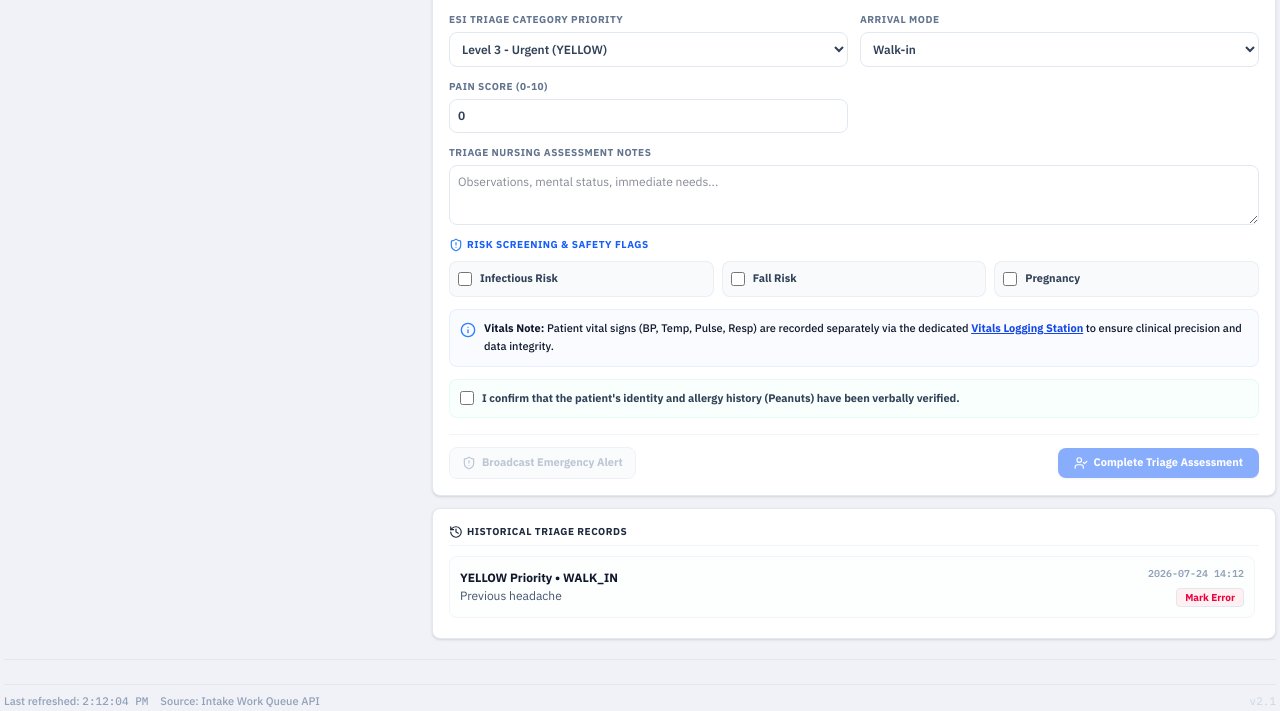
Test: NurseTriageQueuePage › renders network error safely when correction fails
(page scrolled)
Click the button "Mark Error". click: [1210, 598]
box: left=1176, top=588, right=1244, bottom=607
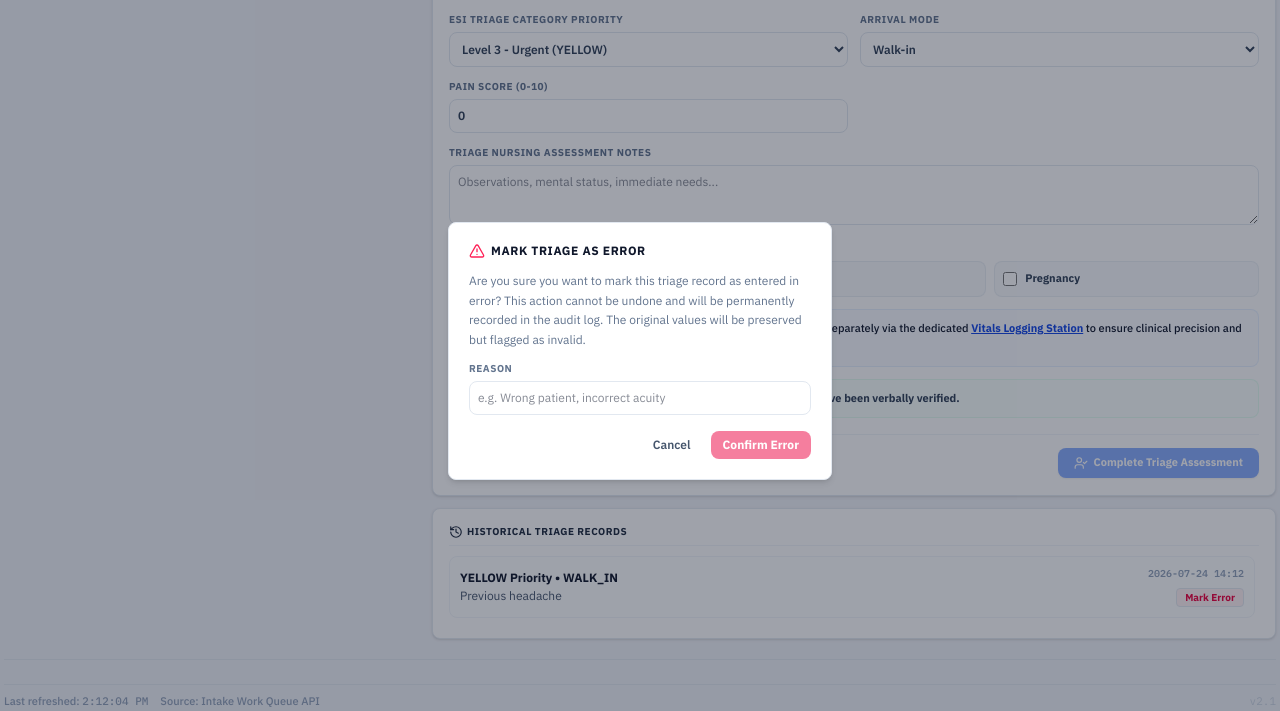
Now the heading "Mark Triage as Error" is shown, box left=469, top=243, right=646, bottom=259
Type "Test reason" into the field with placeholder "e.g. Wrong patient, incorrect acuity". click: [640, 398]
box: left=469, top=381, right=811, bottom=415
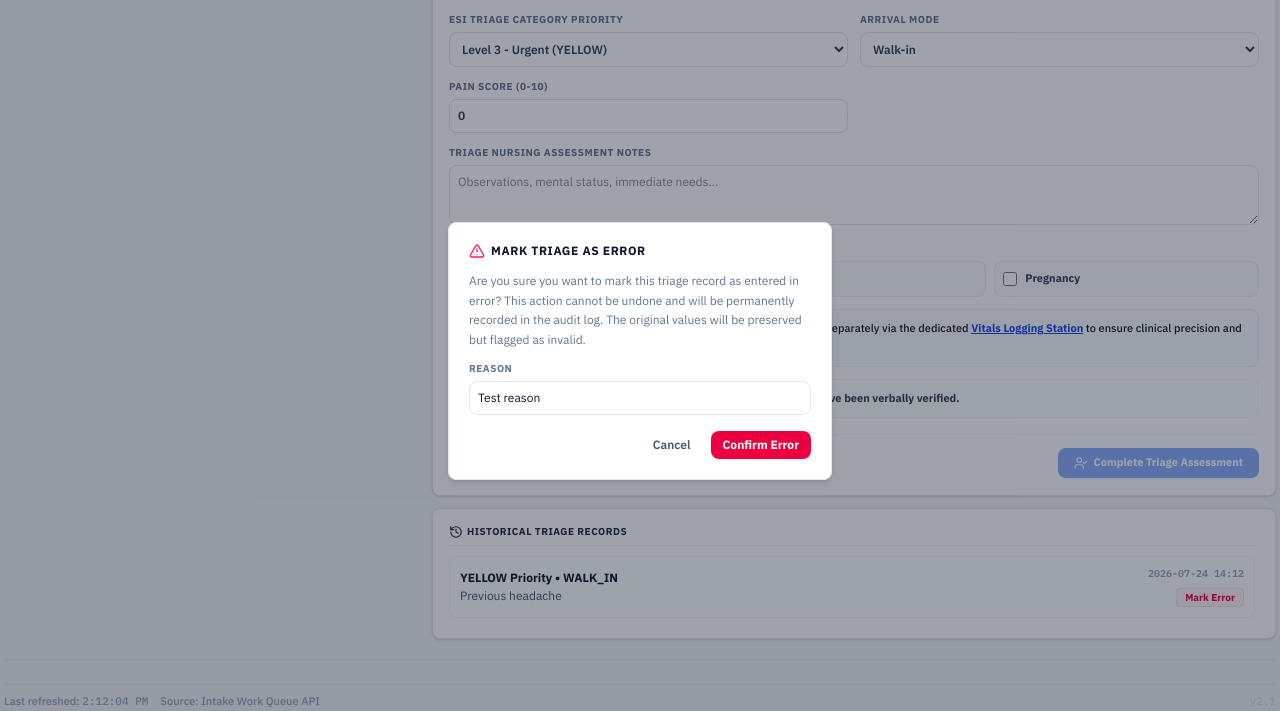
Click the button "Confirm Error". click: [761, 445]
box: left=710, top=431, right=811, bottom=459
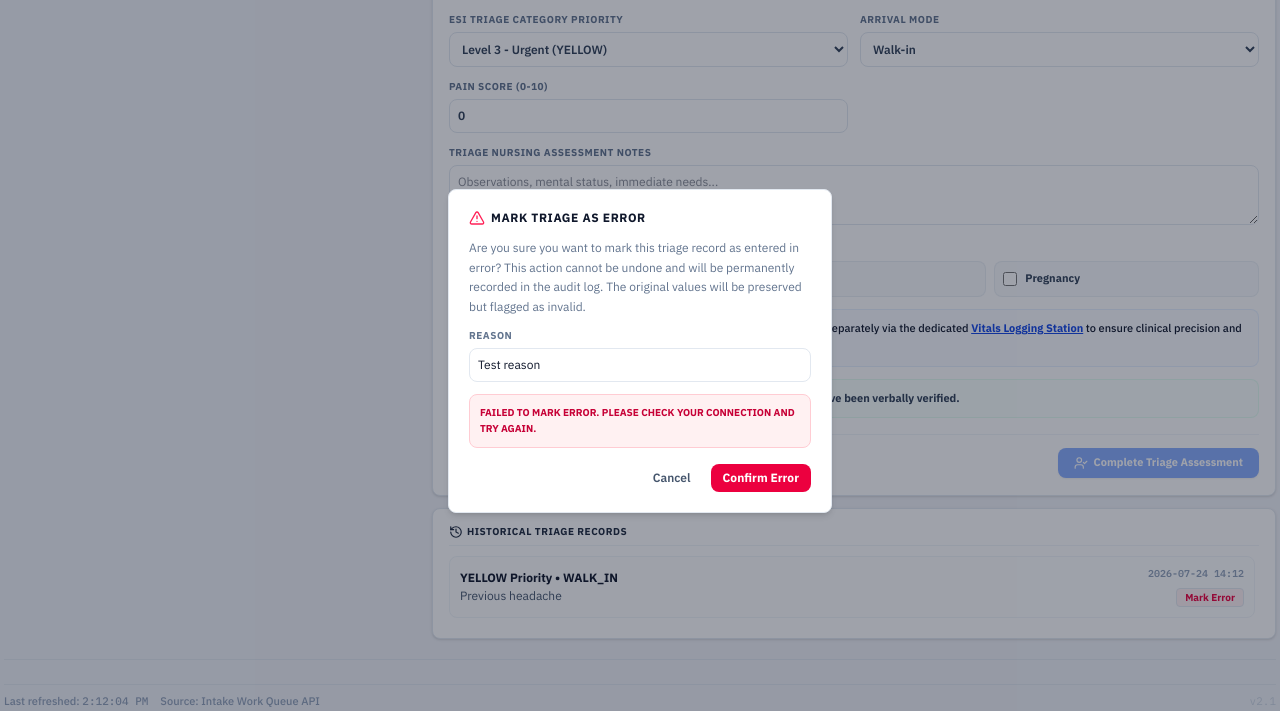
Now the text "Failed to mark error" is shown, box left=480, top=406, right=795, bottom=435
